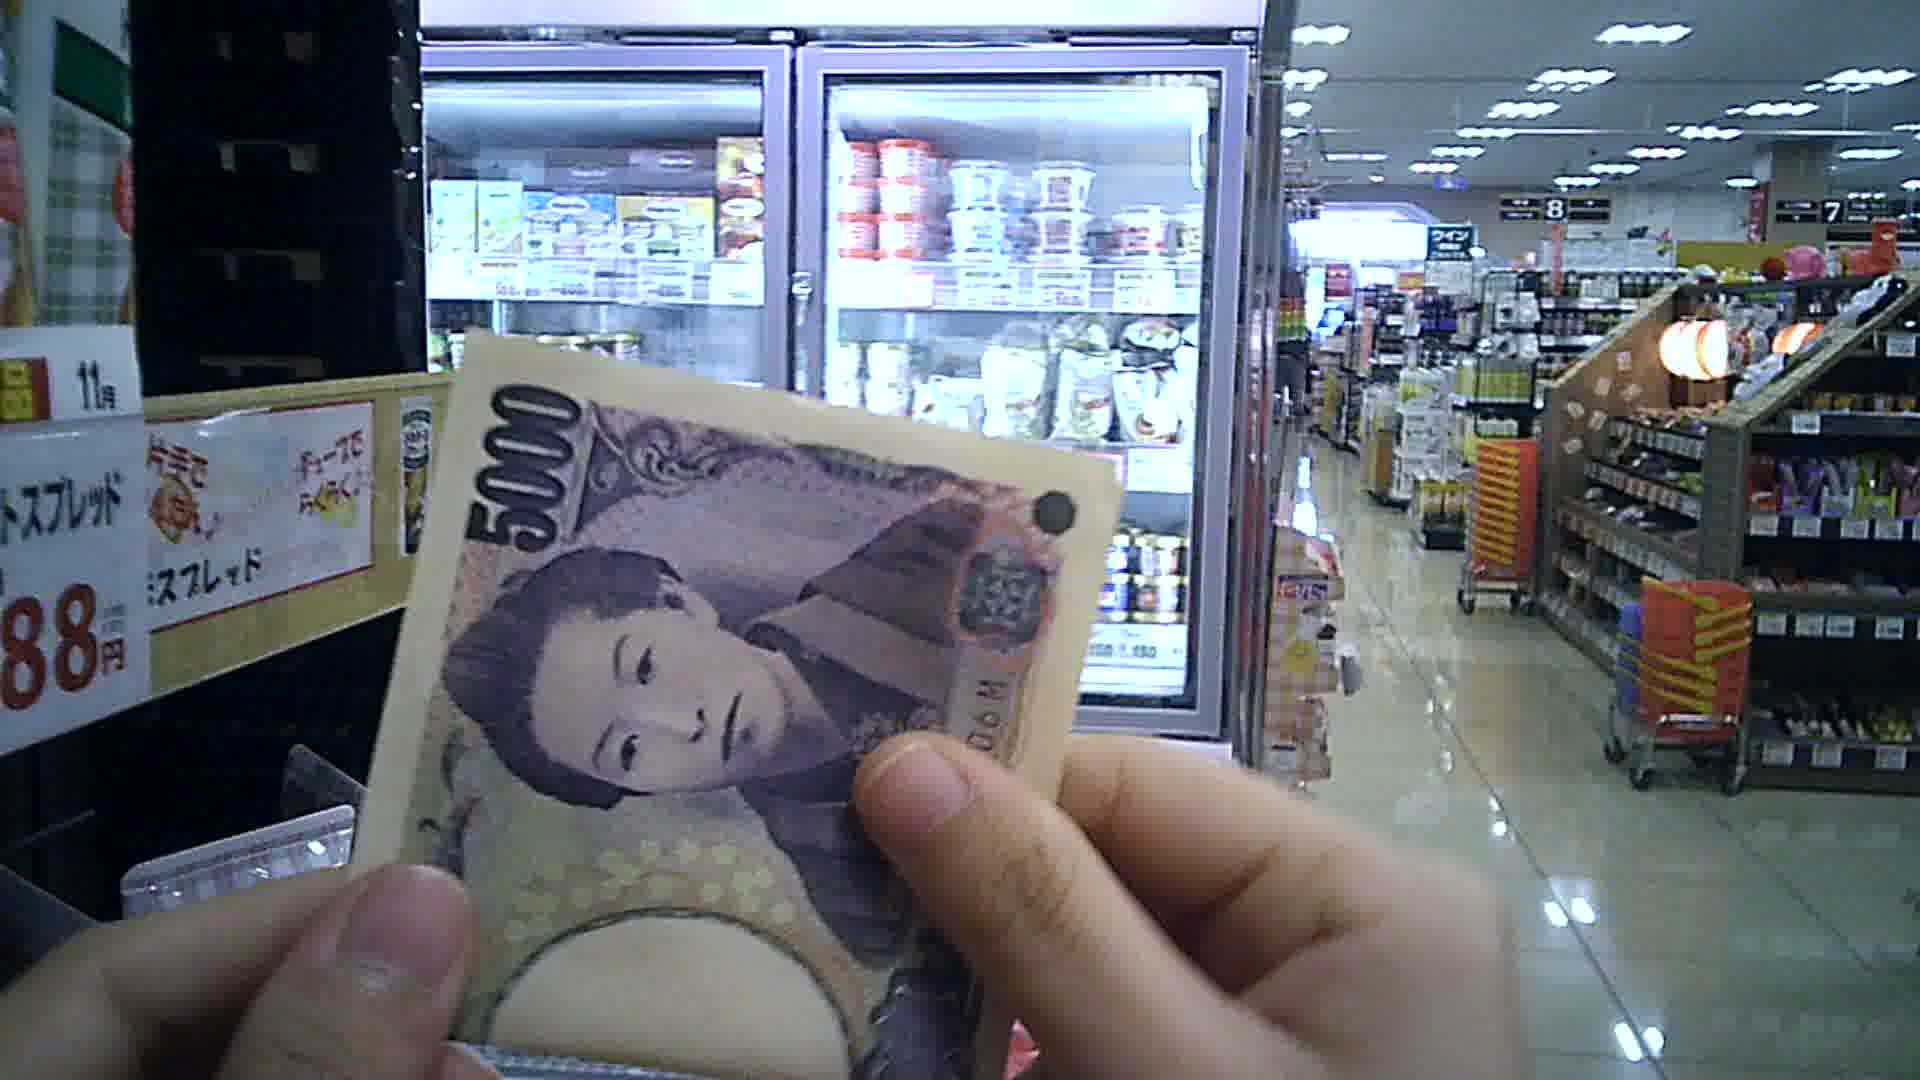5,000 Yen: (334, 327, 1095, 1079)
